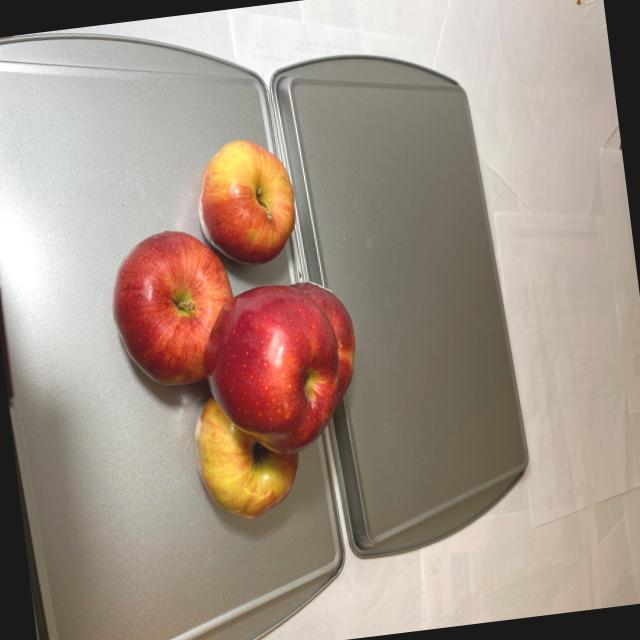apple: (89, 119, 376, 536)
